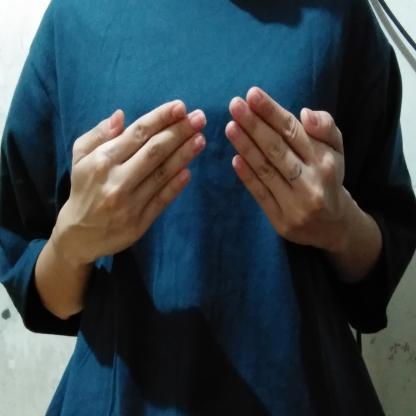night: (47, 79, 370, 268)
